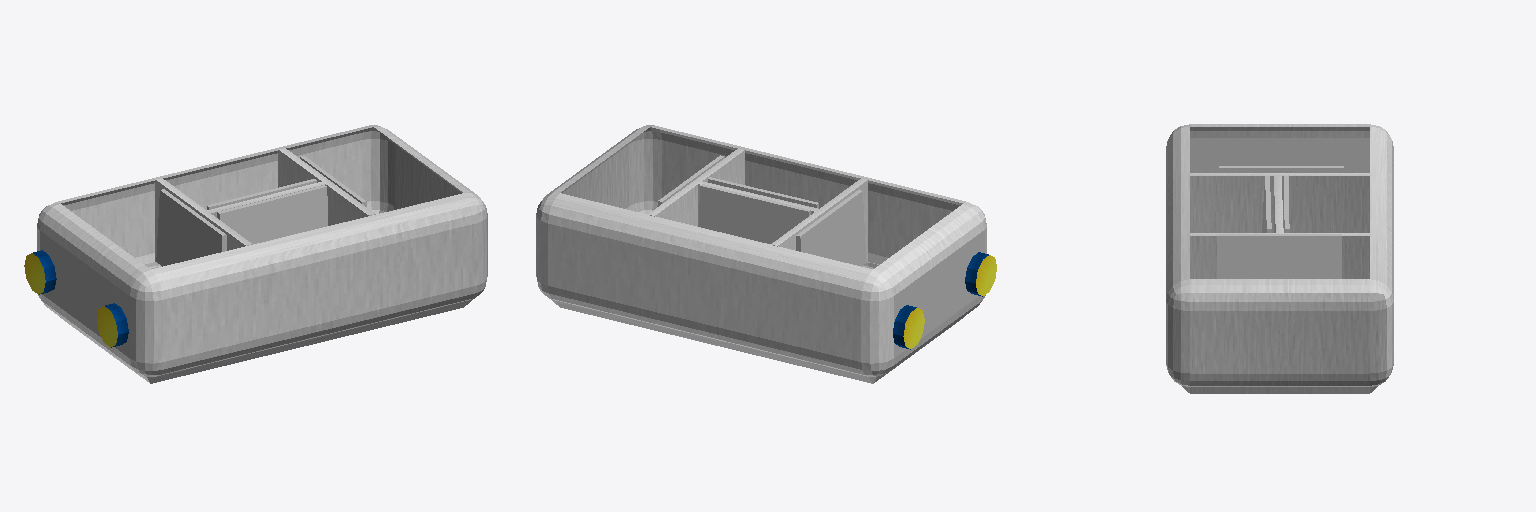
3 views of the same model, side by side, from view 1: azimuth 30°, elevation 25°; view 2: azimuth 150°, elevation 25°; view 3: azimuth 270°, elevation 25° (orthographic).
Parts seen in each view (by area): view 1: Cylinder.009_Material.018, Cylinder.009_Material.003, Cylinder.009_Material.005, Cylinder.009_Material.001, Cylinder.009_Material.020, Cylinder.009_Material.022, Cylinder.009_Material.004; view 2: Cylinder.009_Material.018, Cylinder.009_Material.004, Cylinder.009_Material.003, Cylinder.009_Material.001, Cylinder.009_Material.005, Cylinder.009_Material.022, Cylinder.009_Material.020; view 3: Cylinder.009_Material.018, Cylinder.009_Material.002, Cylinder.009_Material.003, Cylinder.009_Material.001.
Boxes of the visible parts, <box> form: Cylinder.009_Material.018: <box>37,125,487,383</box>; Cylinder.009_Material.003: <box>40,231,130,358</box>; Cylinder.009_Material.005: <box>217,185,327,243</box>; Cylinder.009_Material.001: <box>145,189,226,268</box>; Cylinder.009_Material.020: <box>97,306,117,347</box>; Cylinder.009_Material.022: <box>24,253,45,294</box>; Cylinder.009_Material.004: <box>207,179,316,209</box>; Cylinder.009_Material.018: <box>536,125,986,383</box>; Cylinder.009_Material.004: <box>699,184,810,243</box>; Cylinder.009_Material.003: <box>894,230,984,357</box>; Cylinder.009_Material.001: <box>796,190,878,268</box>; Cylinder.009_Material.005: <box>708,177,818,208</box>; Cylinder.009_Material.022: <box>903,308,924,348</box>; Cylinder.009_Material.020: <box>976,255,996,295</box>; Cylinder.009_Material.018: <box>1166,124,1393,393</box>; Cylinder.009_Material.002: <box>1217,234,1341,278</box>; Cylinder.009_Material.003: <box>1190,138,1369,172</box>; Cylinder.009_Material.001: <box>1219,166,1343,172</box>.
Size of the model in its own units: 21.15 by 6.42 by 11.37.
10 materials, 3 textured.